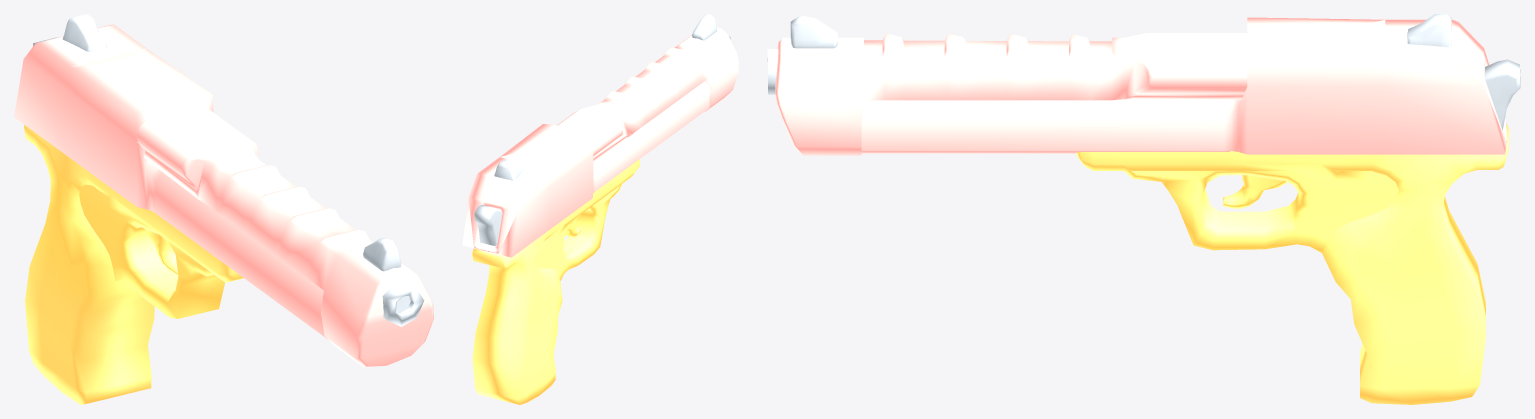
The model's file is Weapon_1.fbx.
The picture shows the model from 3 angles, left to right: view 1: azimuth 30°, elevation 25°; view 2: azimuth 150°, elevation 25°; view 3: azimuth 270°, elevation 25°; orthographic projection. The views are drawn at different scales.
Parts seen in each view (by area): view 1: DesertEagleMesh; view 2: DesertEagleMesh; view 3: DesertEagleMesh.
Part boxes in pixels (x1,y1,x2,y2): DesertEagleMesh: (14, 14, 433, 404); DesertEagleMesh: (462, 14, 738, 404); DesertEagleMesh: (767, 14, 1520, 404).
Bounding box in the file's own units: 26.8 × 118 × 216.
